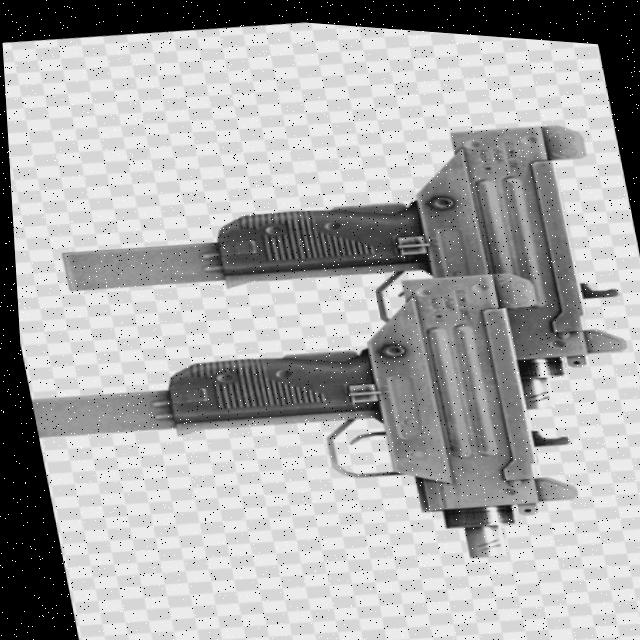firearm: (36, 79, 638, 468), (11, 232, 585, 615)
